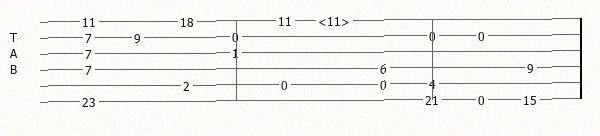0: (232, 30, 243, 43), (281, 78, 292, 91), (380, 78, 391, 91), (429, 30, 440, 43), (478, 30, 489, 43), (478, 94, 489, 107)
1: (232, 46, 243, 59)
11: (82, 14, 100, 27), (278, 14, 296, 27)
15: (523, 94, 541, 107)
18: (180, 14, 198, 27)
2: (183, 78, 194, 91)
21: (425, 94, 443, 107)
23: (82, 94, 100, 107)
4: (429, 78, 440, 91)
6: (380, 62, 391, 75)
7: (85, 62, 96, 75), (85, 30, 96, 43), (85, 46, 96, 59)
9: (134, 30, 145, 43), (527, 62, 538, 75)
harmonic: (318, 14, 354, 27)
